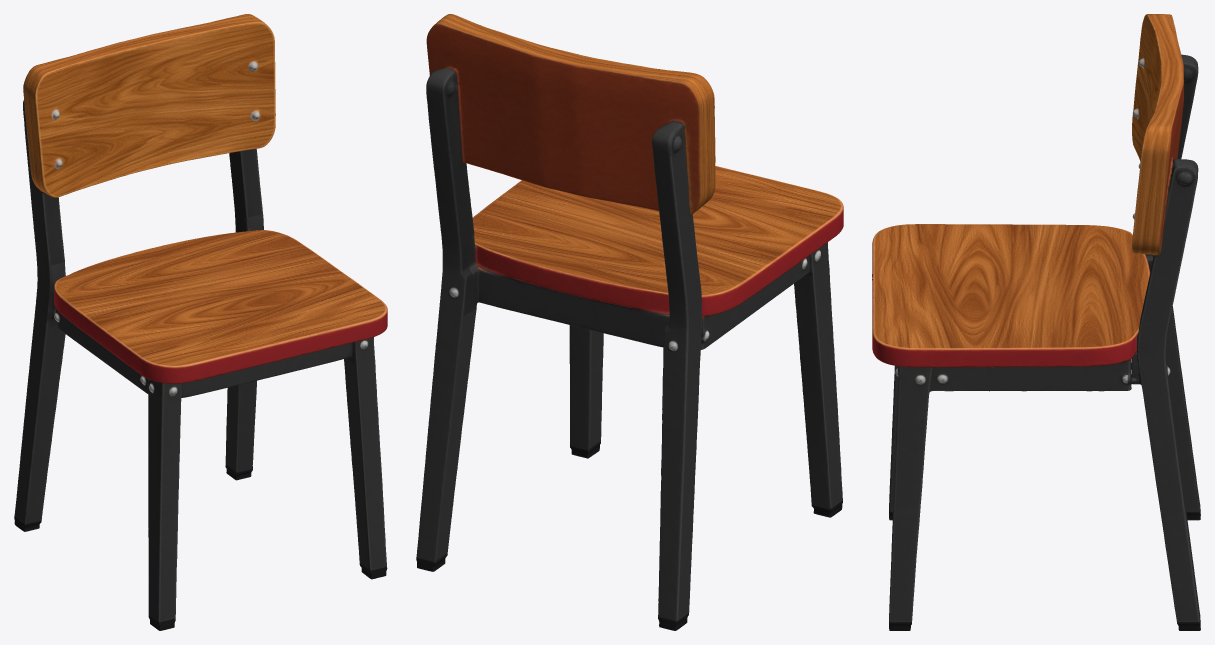
File: Meshy_AI_의자_20261119_texture.fbx
3 views of the same model, side by side, from view 1: azimuth 30°, elevation 25°; view 2: azimuth 150°, elevation 25°; view 3: azimuth 270°, elevation 25° (orthographic). The views are drawn at different scales.
Parts seen in each view (by area): view 1: Mesh_0; view 2: Mesh_0; view 3: Mesh_0.
Boxes of the visible parts, x1,y1,x2,y2 form: Mesh_0: [14, 14, 387, 630]; Mesh_0: [416, 14, 843, 630]; Mesh_0: [872, 14, 1200, 630].
Bounding box in the file's own units: 102 × 190 × 113.
1 material, 1 textured.
